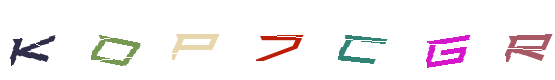7: (236, 0, 316, 80)
C: (241, 0, 321, 80)
D: (175, 0, 255, 80)
G: (407, 0, 487, 80)
K: (0, 0, 80, 80)
P: (175, 0, 255, 80)
R: (474, 0, 554, 80)
